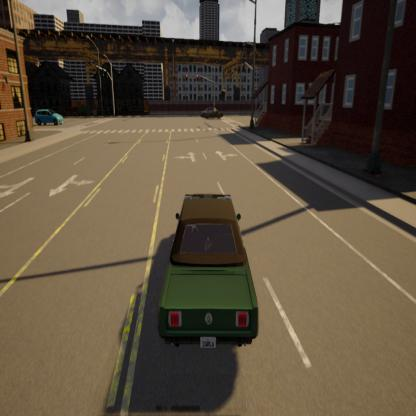Cars: (150, 179, 266, 361), (32, 104, 68, 130), (198, 104, 228, 122)
